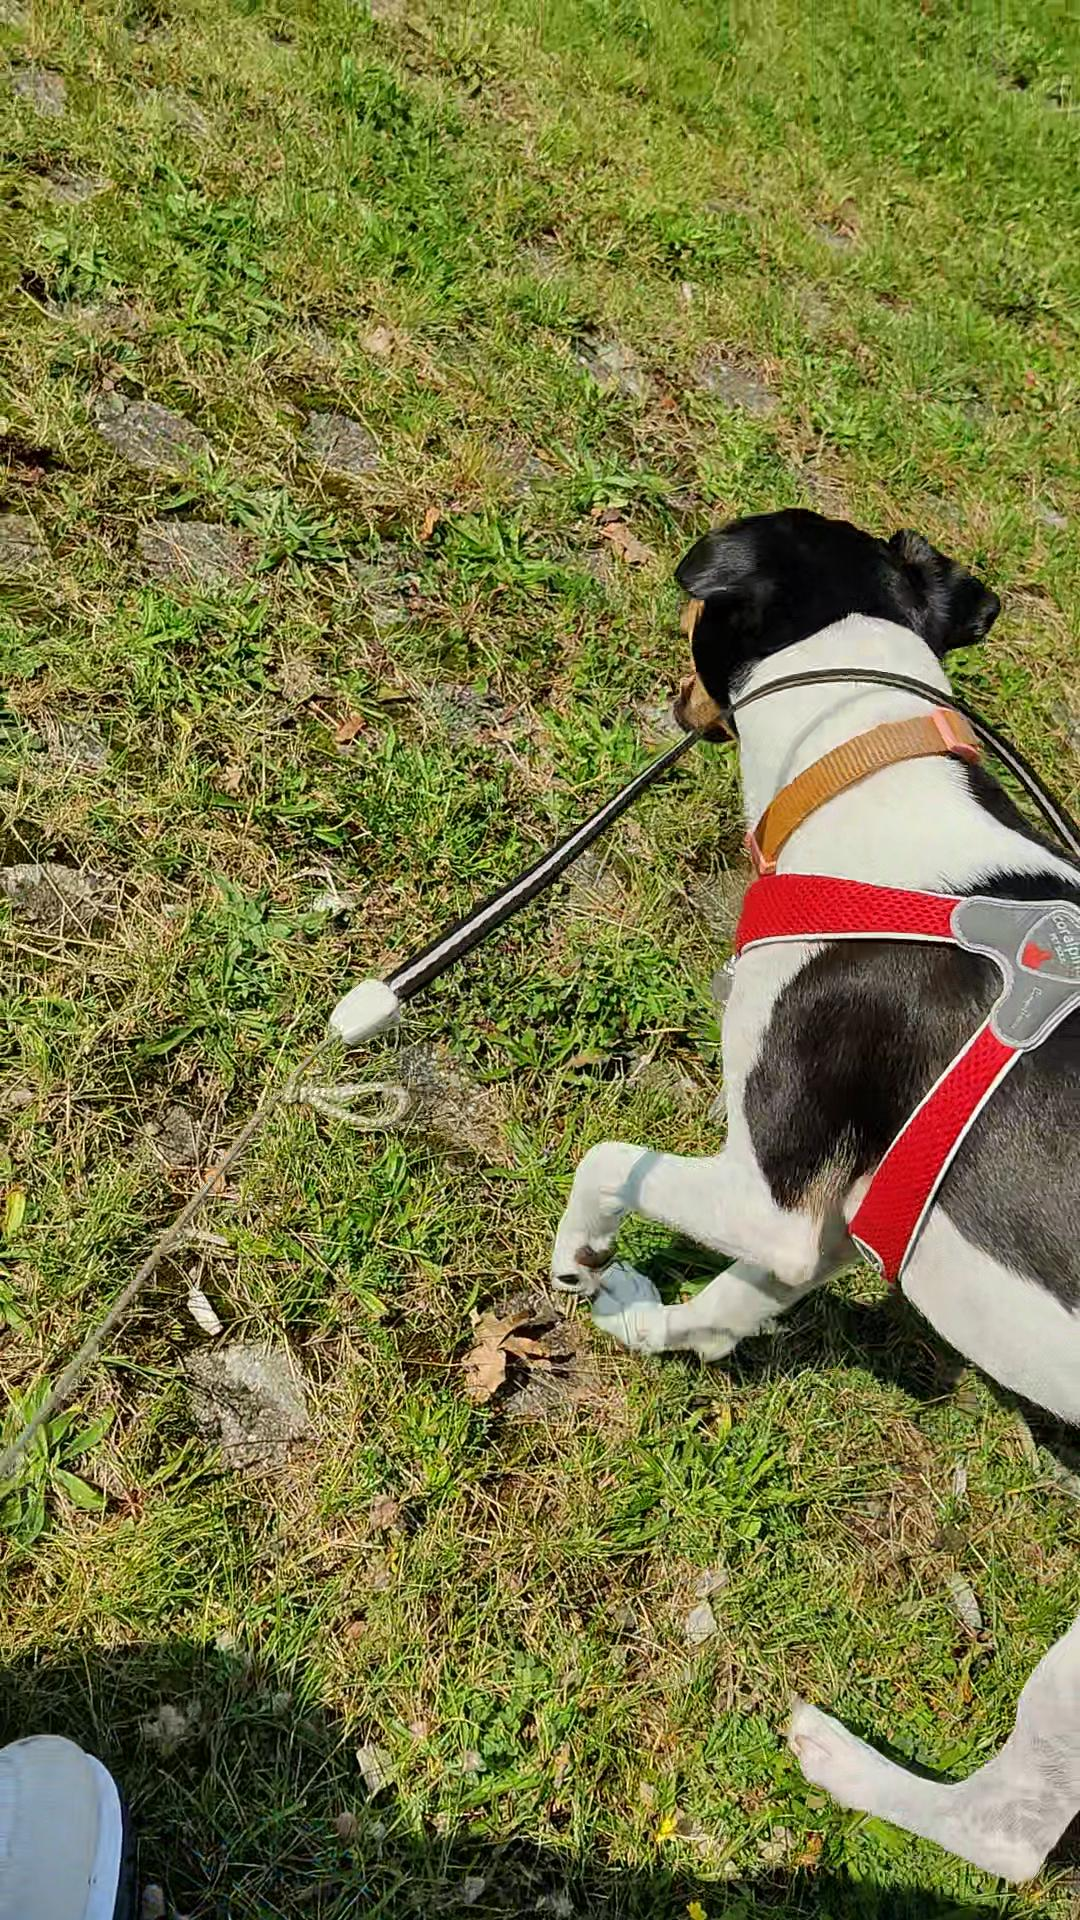Dog: (535, 495, 1079, 1884)
